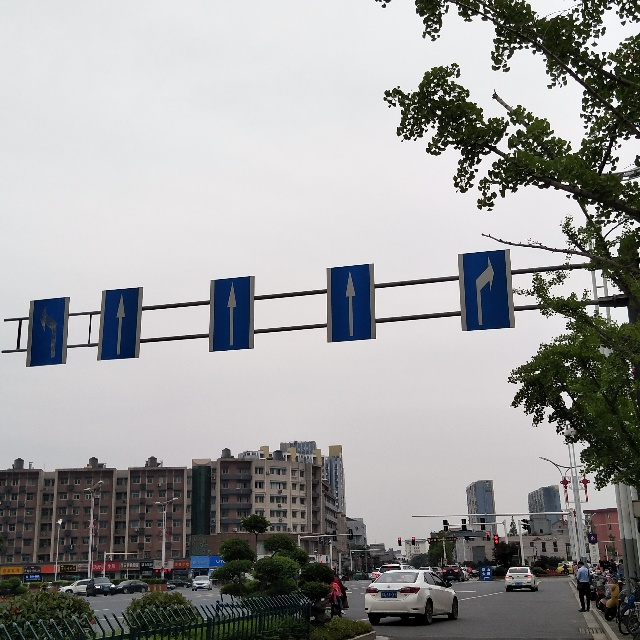left: (30, 298, 64, 361)
right: (468, 255, 510, 327)
straight: (336, 269, 369, 338), (216, 282, 249, 350), (103, 291, 134, 355)
